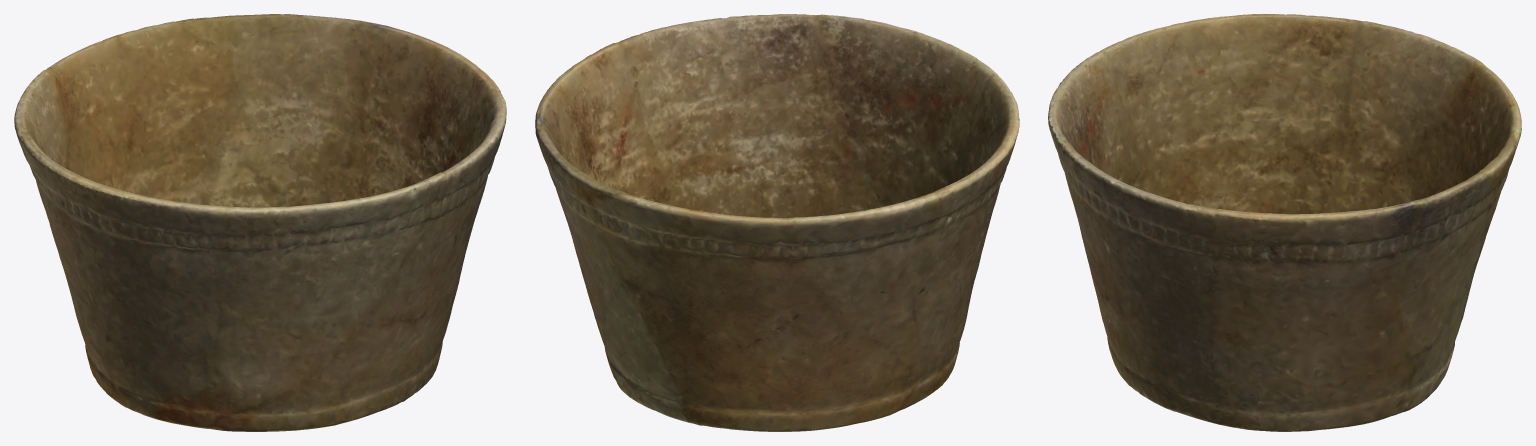
The picture shows the model from 3 angles, left to right: view 1: azimuth 30°, elevation 25°; view 2: azimuth 150°, elevation 25°; view 3: azimuth 270°, elevation 25°; orthographic projection. The views are drawn at different scales.
Visible parts, largest first — view 1: Mesh_0.013; view 2: Mesh_0.013; view 3: Mesh_0.013.
Boxes of the visible parts, box(x1,y1,x2,y2) form: Mesh_0.013: box(14, 14, 506, 431); Mesh_0.013: box(535, 14, 1019, 431); Mesh_0.013: box(1048, 14, 1521, 431).
Size of the model in its own units: 0.2011 by 0.1264 by 0.1978.
Materials: 1 (1 with a texture image).
